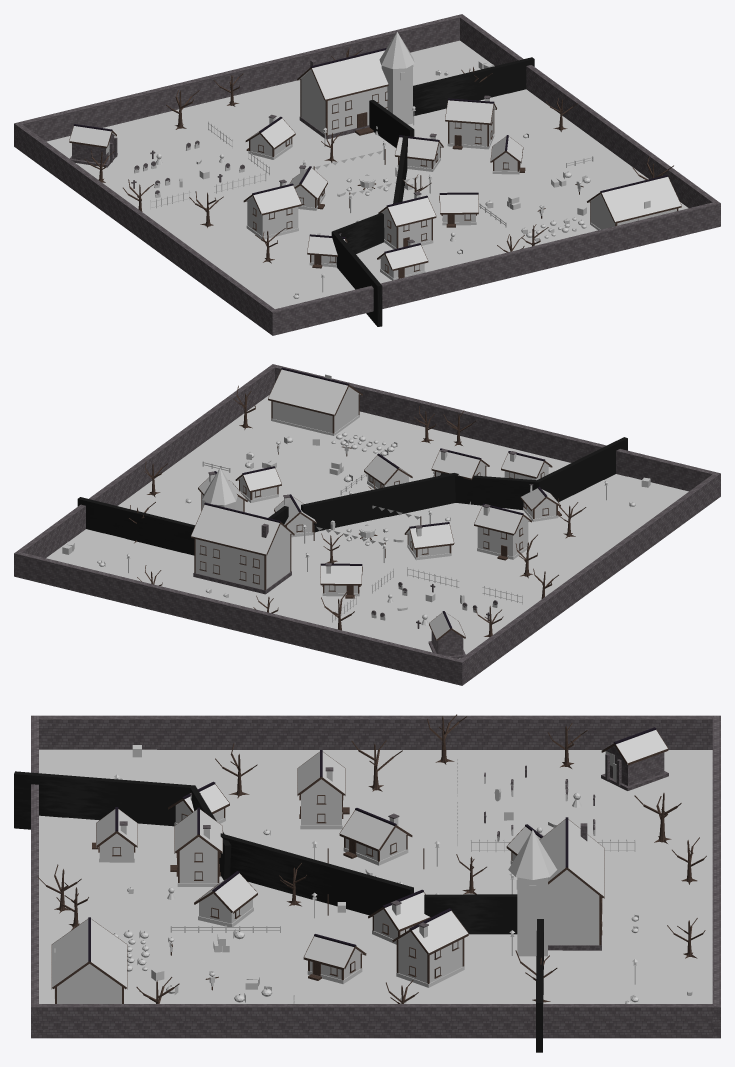
3 renders of one model, top to bottom at view 1: azimuth 30°, elevation 25°; view 2: azimuth 150°, elevation 25°; view 3: azimuth 270°, elevation 25°, orthographic. The views are drawn at different scales.
Visible parts, largest first — view 1: Stone_Dark, Ground_DeadGrass, Ground_Mud, Roof_Purple, House_Rotten_Plaster, Site_Tiles, House_Trim, Cube, Roof_Brown, Wood_Dark, Ground_Dirt, Ground_Cobble (+16 smaller); view 2: Stone_Dark, Ground_DeadGrass, Ground_Mud, Roof_Purple, House_Rotten_Plaster, Site_Tiles, Cube.003, House_Trim, Cube, Ground_Dirt, Roof_Brown, Wood_Dark (+14 smaller); view 3: Ground_DeadGrass, Stone_Dark, Ground_Mud, House_Rotten_Plaster, Roof_Purple, Site_Tiles, Cube.004, Cube.003, Ground_Dirt, House_Trim, Wood_Dark, Roof_Brown (+16 smaller).
Boxes of the visible parts, x1,y1,x2,y2 form: Stone_Dark: [14, 14, 720, 335]; Ground_DeadGrass: [46, 74, 688, 297]; Ground_Mud: [162, 74, 572, 297]; Roof_Purple: [245, 32, 496, 269]; House_Rotten_Plaster: [295, 65, 517, 264]; Site_Tiles: [115, 146, 586, 219]; House_Trim: [69, 67, 681, 278]; Cube: [413, 57, 534, 115]; Roof_Brown: [307, 137, 681, 255]; Wood_Dark: [84, 46, 673, 278]; Ground_Dirt: [482, 181, 606, 234]; Ground_Cobble: [322, 165, 418, 208]; Stone_Dark: [14, 364, 720, 685]; Ground_DeadGrass: [69, 395, 636, 658]; Ground_Mud: [79, 448, 646, 624]; Roof_Purple: [191, 450, 550, 583]; House_Rotten_Plaster: [195, 461, 556, 589]; Site_Tiles: [277, 447, 498, 638]; Cube.003: [301, 473, 458, 532]; House_Trim: [191, 369, 560, 640]; Cube: [77, 497, 194, 555]; Ground_Dirt: [254, 434, 386, 487]; Roof_Brown: [268, 369, 560, 524]; Wood_Dark: [129, 385, 586, 637]; Ground_DeadGrass: [39, 750, 712, 1003]; Stone_Dark: [31, 715, 720, 1038]; Ground_Mud: [66, 759, 689, 1003]; House_Rotten_Plaster: [175, 801, 599, 982]; Roof_Purple: [96, 752, 604, 954]; Site_Tiles: [162, 776, 622, 992]; Cube.004: [14, 771, 192, 829]; Cube.003: [219, 833, 413, 915]; Ground_Dirt: [127, 932, 281, 1003]; House_Trim: [51, 730, 668, 1003]; Wood_Dark: [38, 714, 706, 1003]; Roof_Brown: [52, 784, 429, 988].
Size of the model in its own units: 102 by 21.9 by 104.
